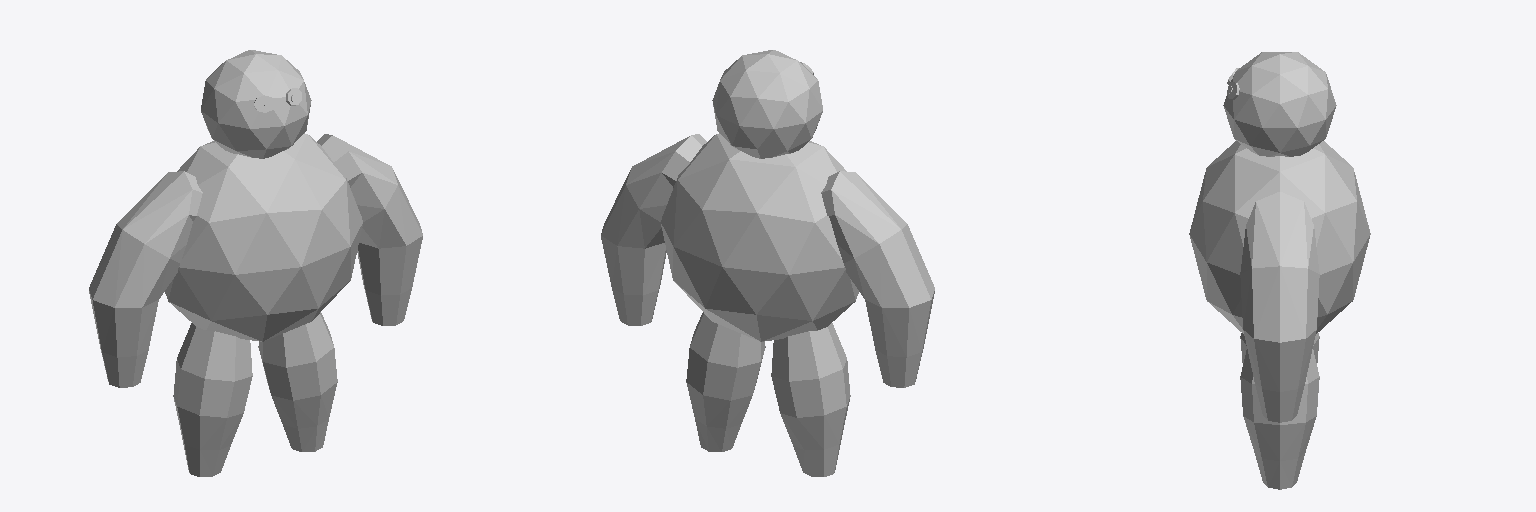
The model's file is bigboi_rigged_000005.obj.
3 views of the same model, side by side, from view 1: azimuth 30°, elevation 25°; view 2: azimuth 150°, elevation 25°; view 3: azimuth 270°, elevation 25° (orthographic).
Visible parts, largest first — view 1: Cube; view 2: Cube; view 3: Cube.
Boxes of the visible parts, x1=… form: Cube: x1=89, y1=50, x2=422, y2=476; Cube: x1=601, y1=50, x2=934, y2=476; Cube: x1=1189, y1=52, x2=1370, y2=489.
Size of the model in its own units: 6.66 by 7.86 by 3.2.